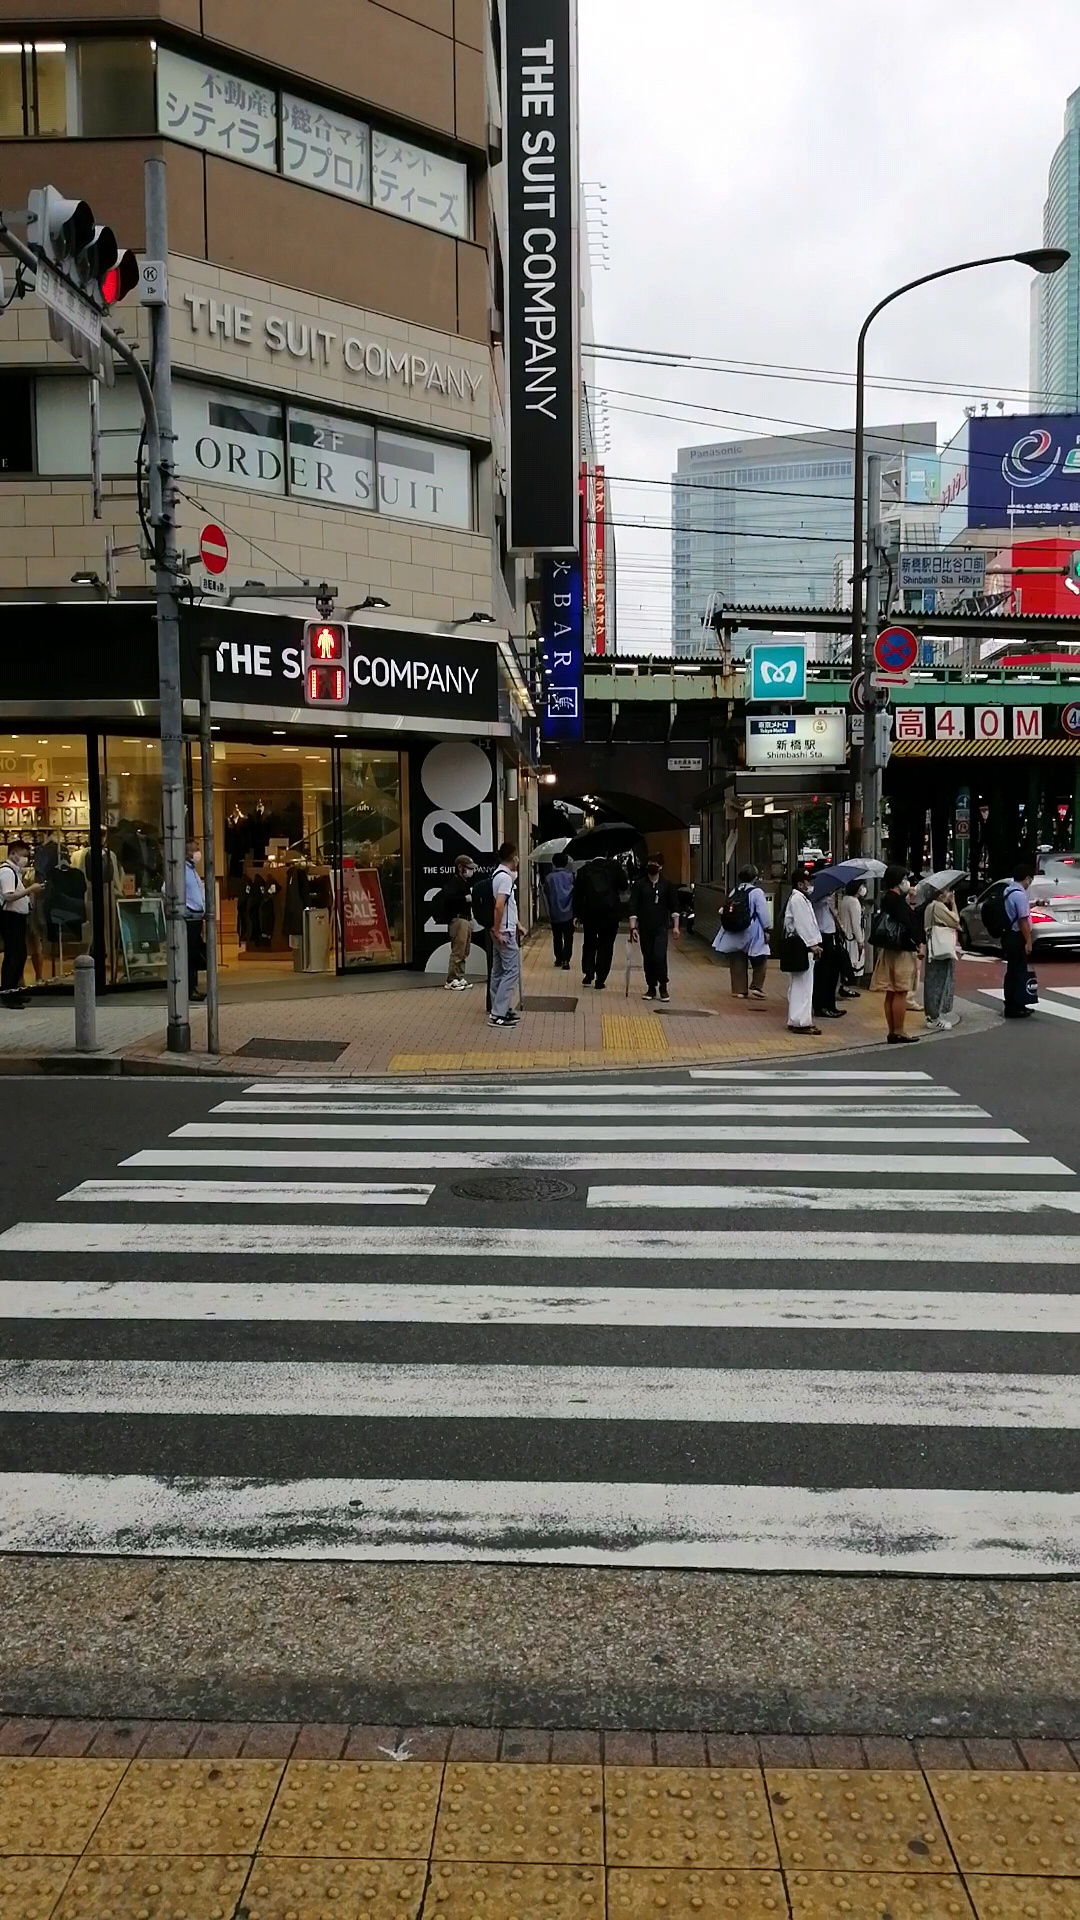red: (302, 618, 349, 707)
